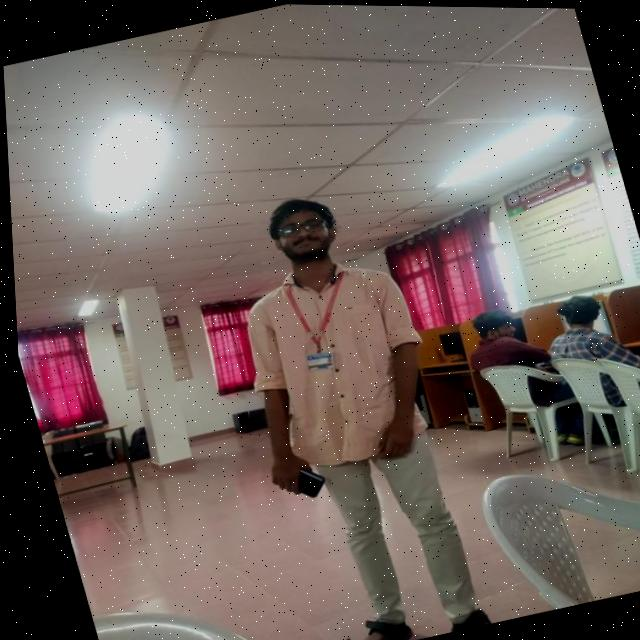id_card: (263, 258, 373, 375)
